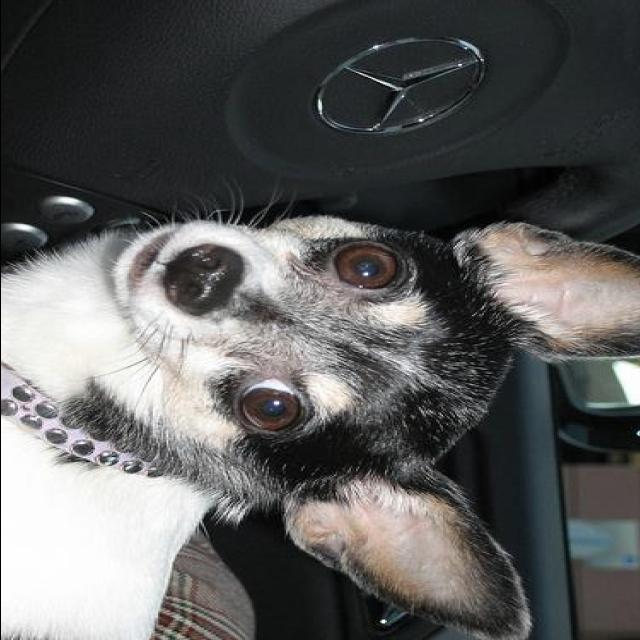toy_terrier: (2, 183, 638, 640)
